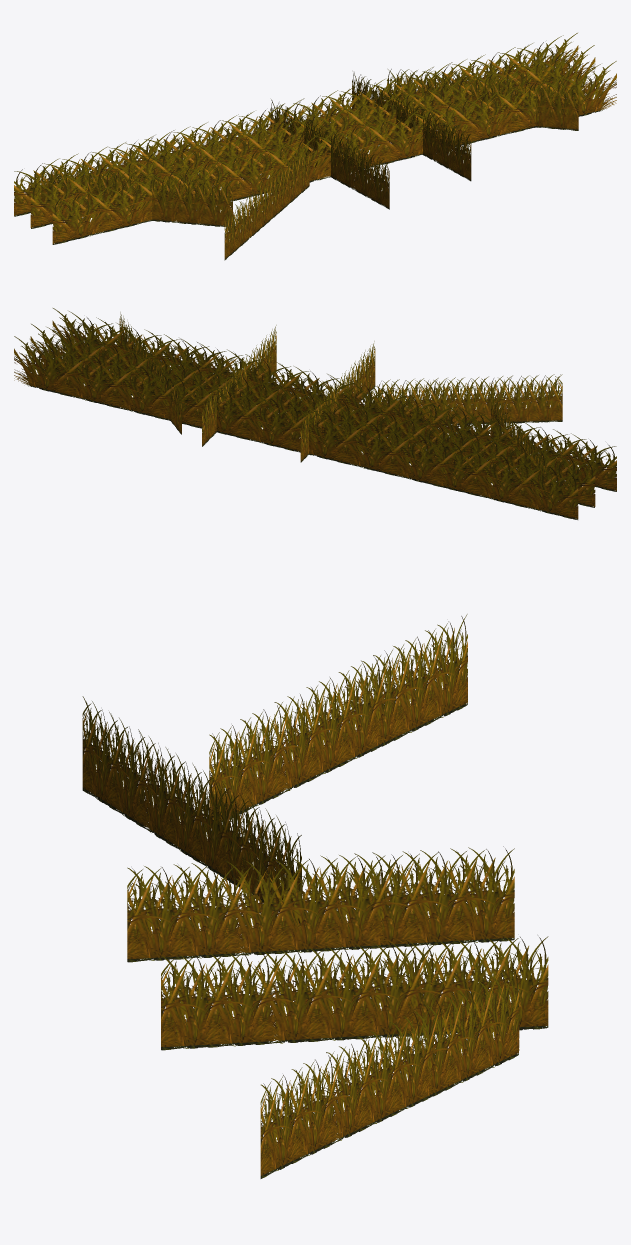
The model's file is grass 3.obj.
The picture shows the model from 3 angles, top to bottom: view 1: azimuth 30°, elevation 25°; view 2: azimuth 150°, elevation 25°; view 3: azimuth 270°, elevation 25°; orthographic projection. The views are drawn at different scales.
Parts seen in each view (by area): view 1: group1_grass_3; view 2: group1_grass_3; view 3: group1_grass_3.
Boxes of the visible parts, bbox=[...] form: group1_grass_3: bbox=[14, 33, 616, 260]; group1_grass_3: bbox=[14, 308, 616, 519]; group1_grass_3: bbox=[82, 614, 548, 1178].
Bounding box in the file's own units: 9.02 × 1 × 3.22.
Materials: 1 (1 with a texture image).
